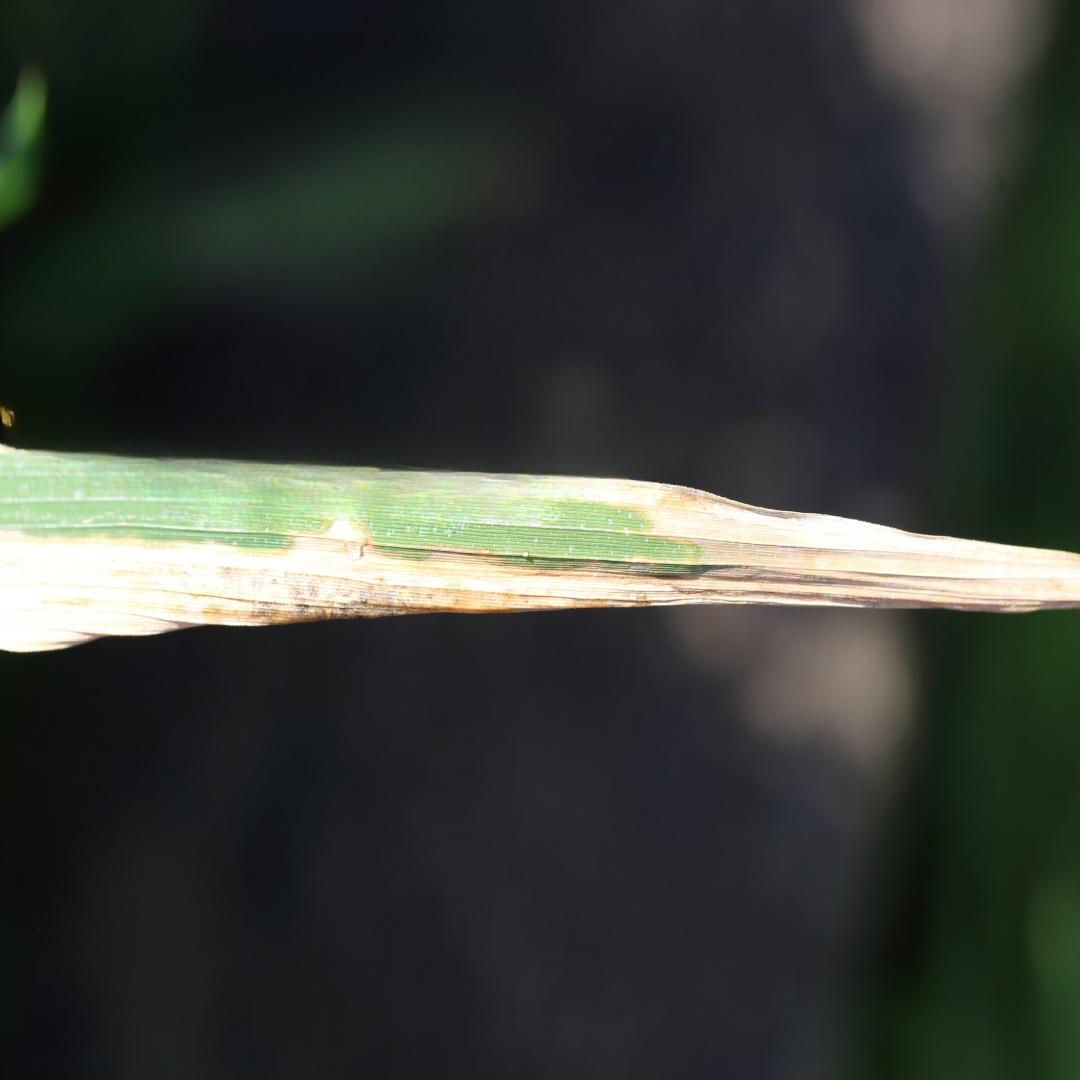BLB: (1, 475, 1079, 647)
LEAF: (0, 445, 1079, 649)
